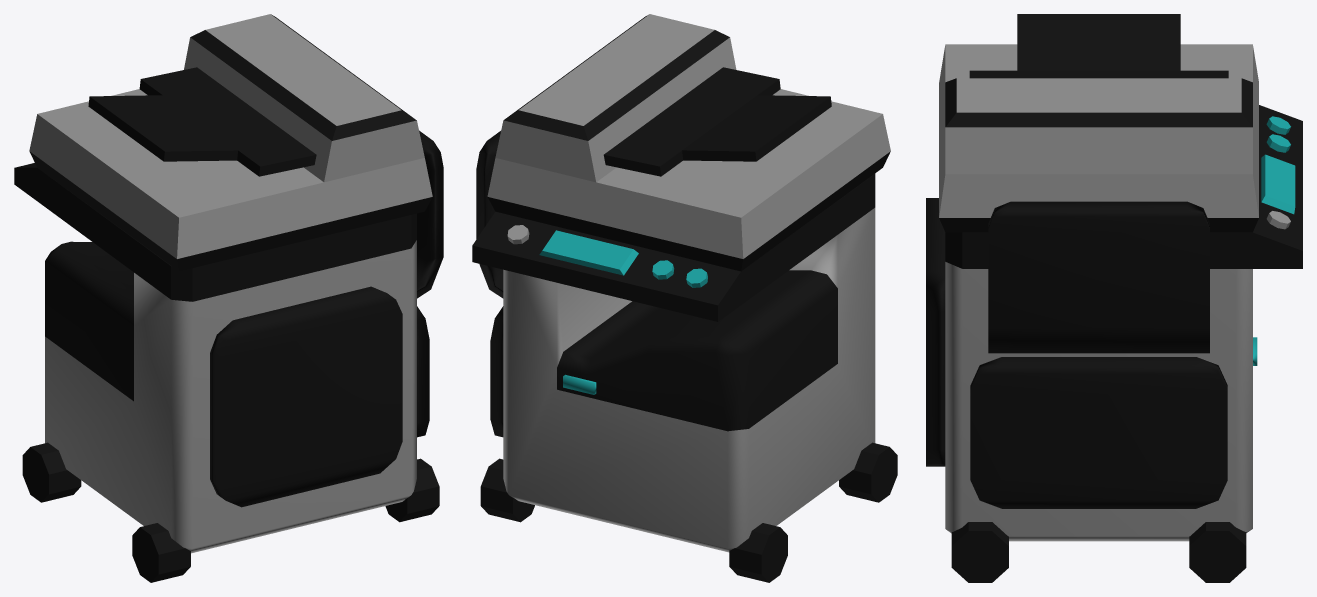
File: mesh_printer_01.fbx
The picture shows the model from 3 angles, left to right: view 1: azimuth 30°, elevation 25°; view 2: azimuth 150°, elevation 25°; view 3: azimuth 270°, elevation 25°; orthographic projection. The views are drawn at different scales.
Parts seen in each view (by area): view 1: mesh_printer_01, mesh_printer_03, mesh_printer_02; view 2: mesh_printer_01, mesh_printer_03, mesh_printer_02; view 3: mesh_printer_01, mesh_printer_03, mesh_printer_02.
Part boxes in pixels (x1,y1,x2,y2): mesh_printer_01: [45, 130, 443, 553]; mesh_printer_03: [14, 14, 432, 301]; mesh_printer_02: [22, 442, 439, 582]; mesh_printer_01: [476, 131, 875, 552]; mesh_printer_03: [472, 14, 890, 321]; mesh_printer_02: [480, 442, 897, 582]; mesh_printer_01: [926, 198, 1257, 541]; mesh_printer_03: [939, 14, 1302, 268]; mesh_printer_02: [951, 522, 1246, 582].
Size of the model in its own units: 10.02 by 13.21 by 9.99.
